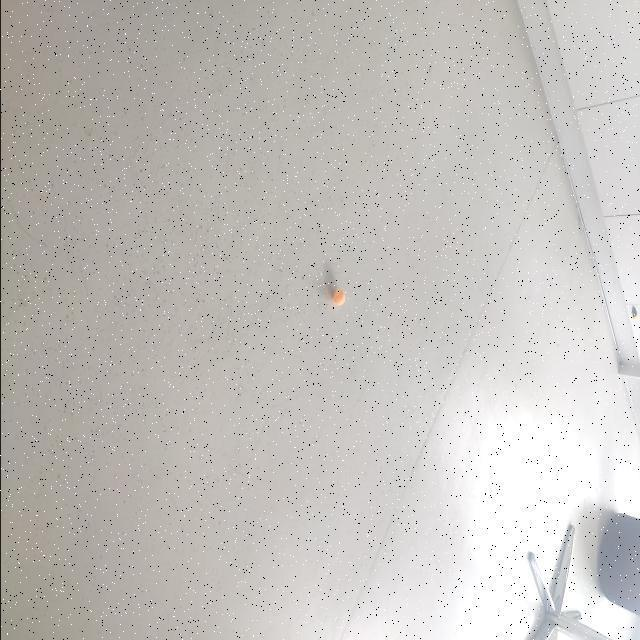ping-pong-ball: (330, 286, 346, 308)
